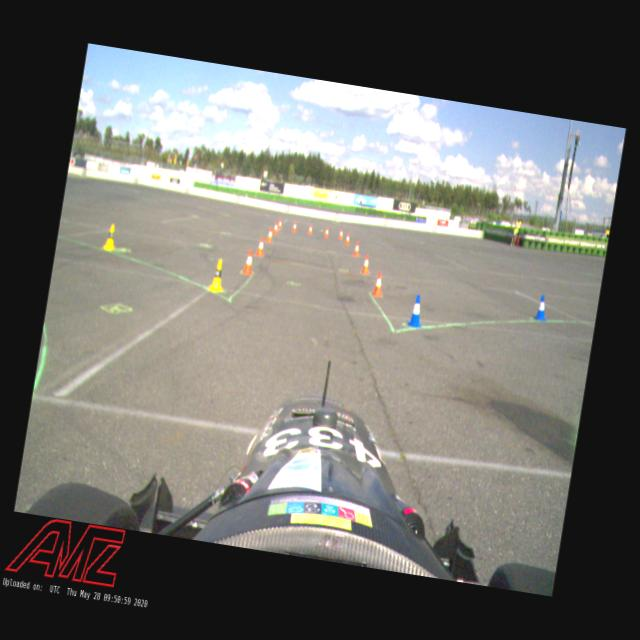blue_cone: (407, 293, 428, 330), (534, 294, 550, 322)
orange_cone: (242, 248, 256, 276), (372, 272, 386, 298), (361, 254, 372, 275), (256, 236, 266, 258), (352, 242, 362, 258), (266, 227, 274, 243), (272, 221, 280, 235), (344, 233, 352, 246), (338, 228, 344, 240), (324, 226, 330, 238), (308, 224, 314, 236), (292, 221, 298, 233), (277, 218, 283, 230)
yellow_cone: (208, 258, 228, 294), (102, 223, 119, 251)
